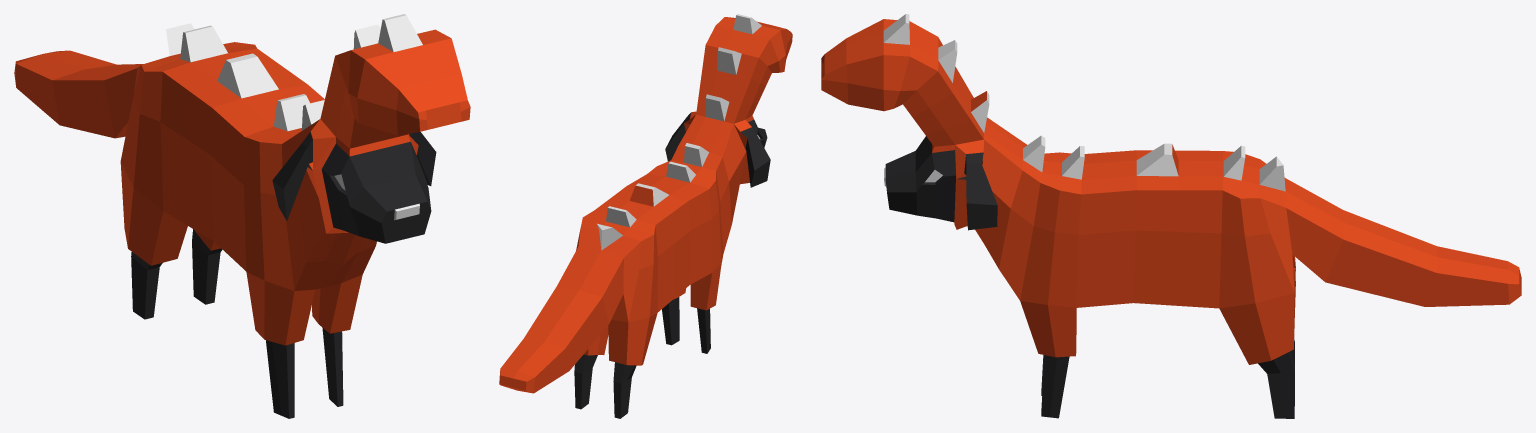
Rendered from Labrador.fbx.
3 views of the same model, side by side, from view 1: azimuth 30°, elevation 25°; view 2: azimuth 150°, elevation 25°; view 3: azimuth 270°, elevation 25° (orthographic). The views are drawn at different scales.
Parts seen in each view (by area): view 1: Plane; view 2: Plane; view 3: Plane.
Part boxes in pixels (x1,y1,x2,y2): Plane: [14, 14, 470, 418]; Plane: [499, 14, 792, 418]; Plane: [821, 14, 1521, 418].
Size of the model in its own units: 2.53 by 7.14 by 11.73.
